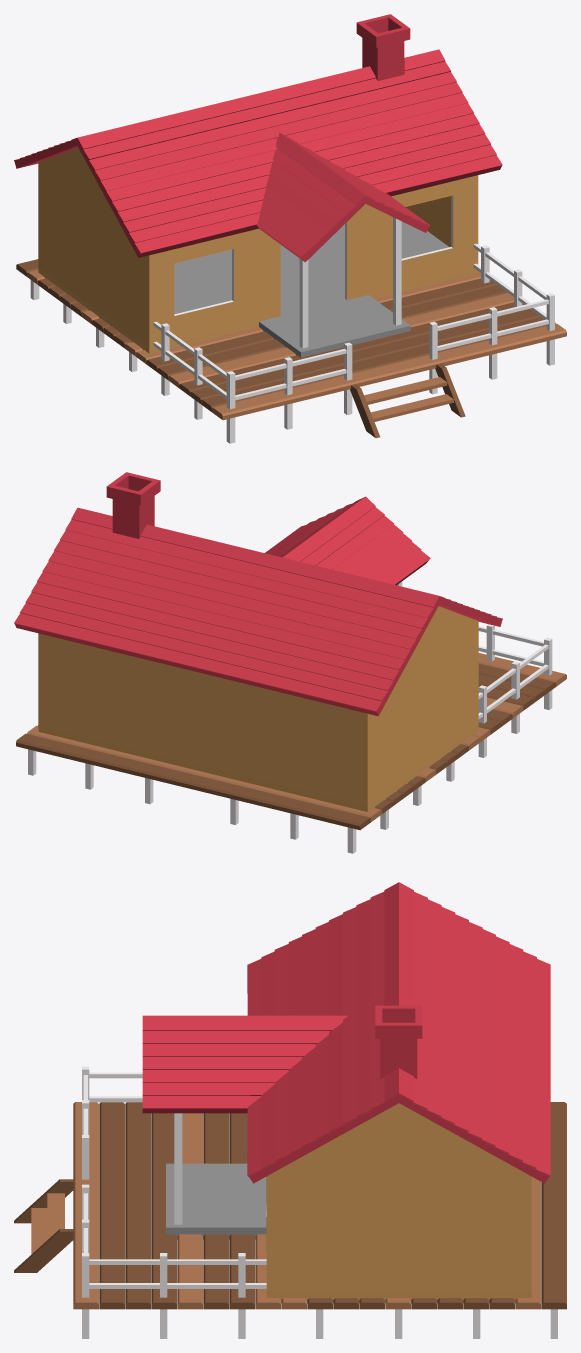
The model's file is 030 House_4.FBX.
3 views of the same model, one above another, from view 1: azimuth 30°, elevation 25°; view 2: azimuth 150°, elevation 25°; view 3: azimuth 270°, elevation 25° (orthographic). The views are drawn at different scales.
Visible parts, largest first — view 1: Box181, Box200, Box215, Box216, Box198, Box220, Box199, Box196, Box195, Box194, Box197, Box193; view 2: Box181, Box182, Box216, Box183, Box215, Box200, Box199, Box198; view 3: Box181, Box215, Box199, Box198, Box182, Box200, Box197, Box220, Box195, Box196, Box194, Box216 (+2 smaller).
Part boxes in pixels (bbox=[...]): Box181: bbox=[14, 14, 502, 357]; Box200: bbox=[212, 323, 566, 420]; Box215: bbox=[30, 243, 554, 394]; Box216: bbox=[153, 321, 352, 443]; Box198: bbox=[190, 309, 540, 403]; Box220: bbox=[350, 363, 465, 438]; Box199: bbox=[201, 317, 555, 411]; Box196: bbox=[168, 293, 513, 387]; Box195: bbox=[157, 285, 507, 380]; Box194: bbox=[146, 278, 496, 372]; Box197: bbox=[179, 302, 529, 395]; Box193: bbox=[136, 271, 480, 364]; Box181: bbox=[14, 472, 502, 811]; Box182: bbox=[16, 733, 370, 830]; Box216: bbox=[478, 624, 552, 757]; Box183: bbox=[27, 725, 381, 821]; Box215: bbox=[28, 749, 454, 853]; Box200: bbox=[478, 653, 566, 686]; Box199: bbox=[478, 663, 555, 694]; Box198: bbox=[478, 674, 545, 702]; Box181: bbox=[142, 882, 550, 1302]; Box215: bbox=[82, 1184, 557, 1338]; Box199: bbox=[99, 1102, 124, 1309]; Box198: bbox=[125, 1102, 150, 1309]; Box182: bbox=[541, 1102, 566, 1309]; Box200: bbox=[73, 1102, 98, 1309]; Box197: bbox=[151, 1113, 176, 1309]; Box220: bbox=[14, 1179, 73, 1272]; Box195: bbox=[203, 1113, 228, 1309]; Box196: bbox=[177, 1113, 202, 1309]; Box194: bbox=[229, 1113, 254, 1309]; Box216: bbox=[82, 1066, 142, 1179].
Bounding box in the file's own units: 681 × 457 × 754.
